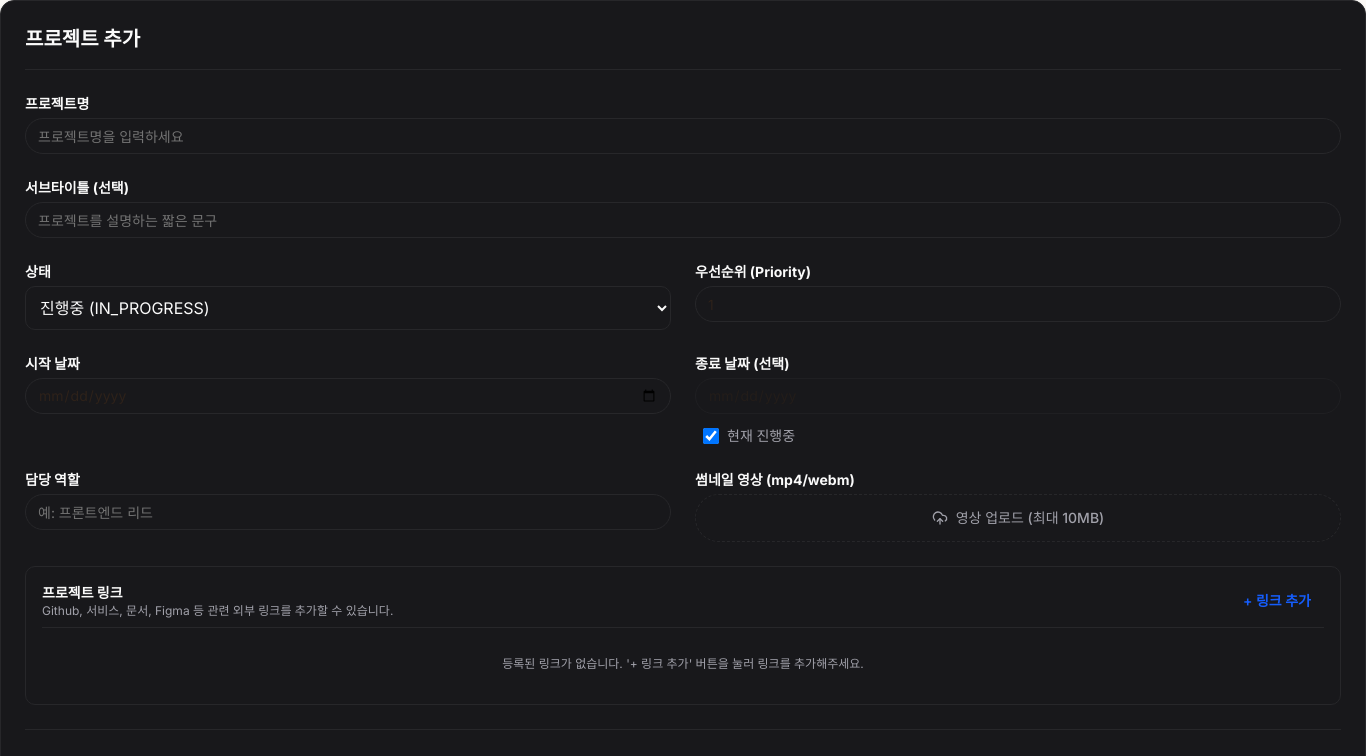
ProjectForm 컴포넌트 › 프로젝트 링크 추가 버튼 클릭 시 새로운 링크 입력 필드가 렌더링되어야 한다
Click the button "+ 링크 추가". click: (1277, 601)
box: x1=1230 y1=583 x2=1324 y2=619
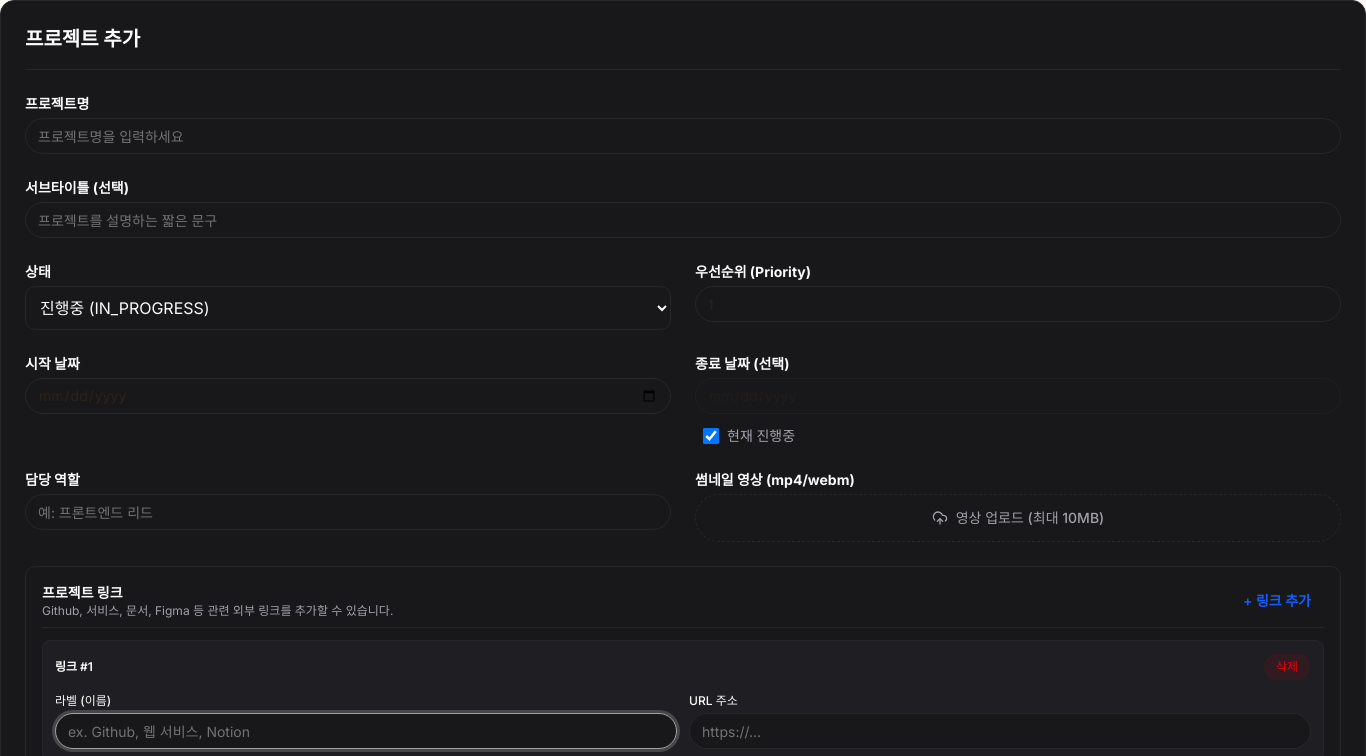
Result: the field with placeholder "ex. Github, 웹 서비스, Notion" is shown at x1=55 y1=713 x2=677 y2=749
Result: the field with placeholder "https://..." is shown at x1=689 y1=713 x2=1311 y2=749
